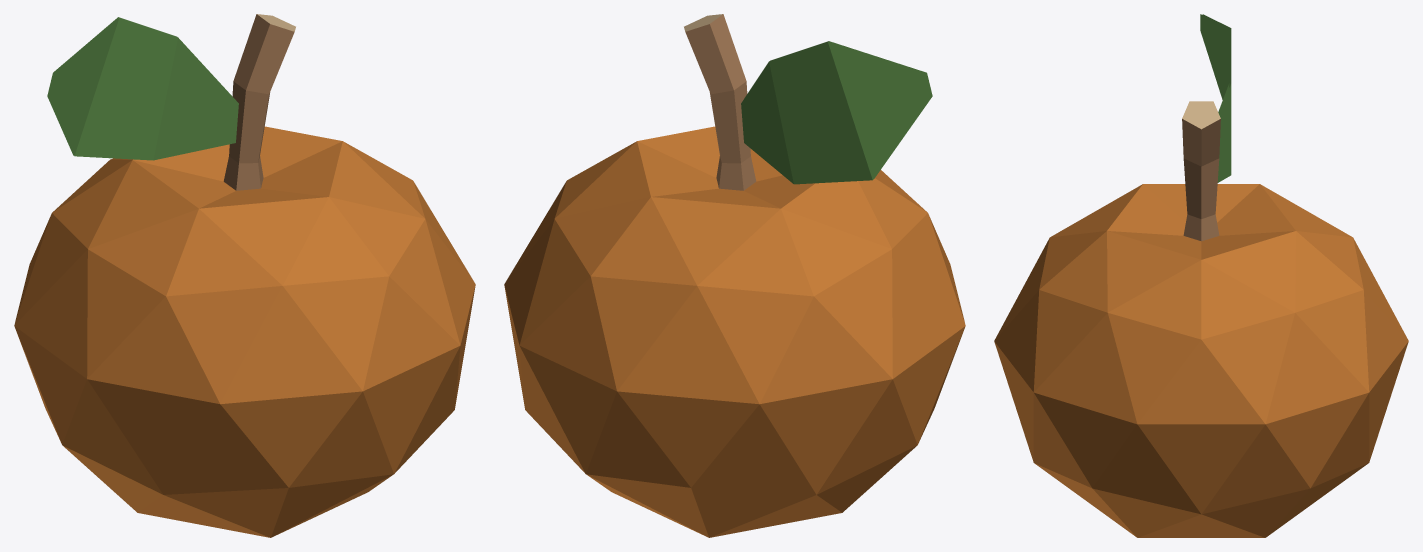
Rendered from Orange.fbx.
The picture shows the model from 3 angles, left to right: view 1: azimuth 30°, elevation 25°; view 2: azimuth 150°, elevation 25°; view 3: azimuth 270°, elevation 25°; orthographic projection. The views are drawn at different scales.
Visible parts, largest first — view 1: Orange; view 2: Orange; view 3: Orange.
Boxes of the visible parts, box(x1,y1,x2,y2) form: Orange: box(14, 14, 475, 537); Orange: box(504, 14, 965, 537); Orange: box(994, 14, 1408, 537).
Bounding box in the file's own units: 0.4024 × 0.501 × 0.42.
